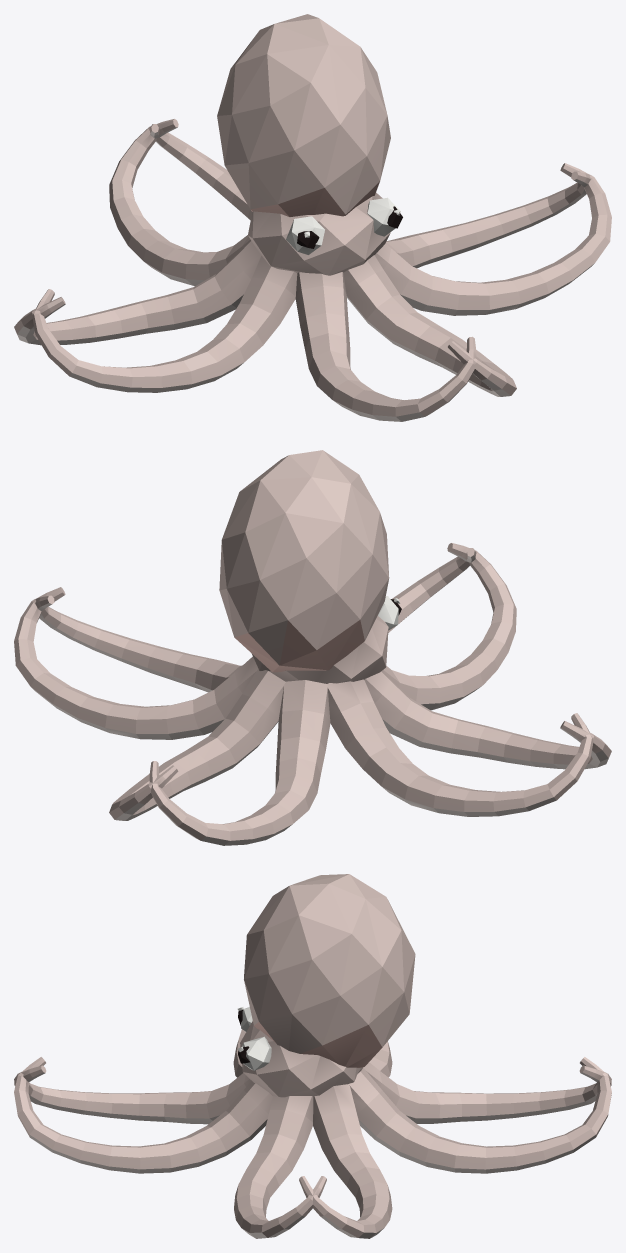
Rendered from octopus.glb.
3 views of the same model, one above another, from view 1: azimuth 30°, elevation 25°; view 2: azimuth 150°, elevation 25°; view 3: azimuth 270°, elevation 25° (orthographic). The views are drawn at different scales.
Parts seen in each view (by area): view 1: base, a6_m, a7_m, a1_m, a5_m, a0_m, a4_m, a2_m, a3_m; view 2: base, a5_m, a4_m, a2_m, a6_m, a3_m, a7_m, a1_m, a0_m; view 3: base, a3_m, a0_m, a2_m, a1_m, a4_m, a7_m.
Part boxes in pixels (x1=…): base: x1=217, y1=14, x2=402, y2=275; a6_m: x1=32, y1=256, x2=297, y2=392; a7_m: x1=295, y1=272, x2=476, y2=421; a1_m: x1=374, y1=163, x2=611, y2=315; a5_m: x1=14, y1=241, x2=261, y2=345; a0_m: x1=343, y1=255, x2=516, y2=396; a4_m: x1=109, y1=119, x2=250, y2=286; a2_m: x1=385, y1=171, x2=591, y2=268; a3_m: x1=149, y1=124, x2=252, y2=220; base: x1=219, y1=450, x2=401, y2=683; a5_m: x1=327, y1=679, x2=593, y2=816; a4_m: x1=149, y1=680, x2=330, y2=845; a2_m: x1=14, y1=587, x2=258, y2=739; a6_m: x1=364, y1=671, x2=611, y2=769; a3_m: x1=109, y1=668, x2=285, y2=820; a7_m: x1=382, y1=543, x2=516, y2=710; a1_m: x1=34, y1=595, x2=242, y2=692; a0_m: x1=388, y1=548, x2=476, y2=632; base: x1=237, y1=874, x2=415, y2=1097; a3_m: x1=348, y1=1057, x2=611, y2=1173; a0_m: x1=14, y1=1057, x2=272, y2=1173; a2_m: x1=299, y1=1084, x2=392, y2=1238; a1_m: x1=234, y1=1095, x2=326, y2=1238; a4_m: x1=359, y1=1062, x2=611, y2=1123; a7_m: x1=14, y1=1065, x2=251, y2=1124.
Bounding box in the file's own units: 0.4493 × 0.2215 × 0.4494.
